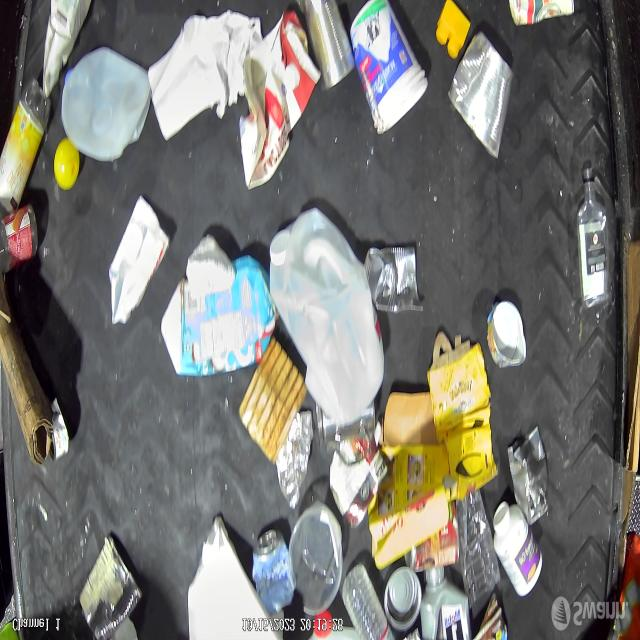can: (449, 23, 517, 161), (77, 534, 145, 635), (322, 421, 381, 535), (252, 522, 301, 620), (300, 0, 352, 92), (367, 236, 421, 321), (511, 427, 556, 527), (485, 285, 529, 376), (378, 550, 421, 636)
milk_jug: (268, 206, 386, 425), (61, 44, 152, 161)
non_white_jug: (370, 426, 470, 568), (418, 555, 474, 640)
plastic_bottle: (456, 482, 498, 598), (341, 558, 393, 640)
